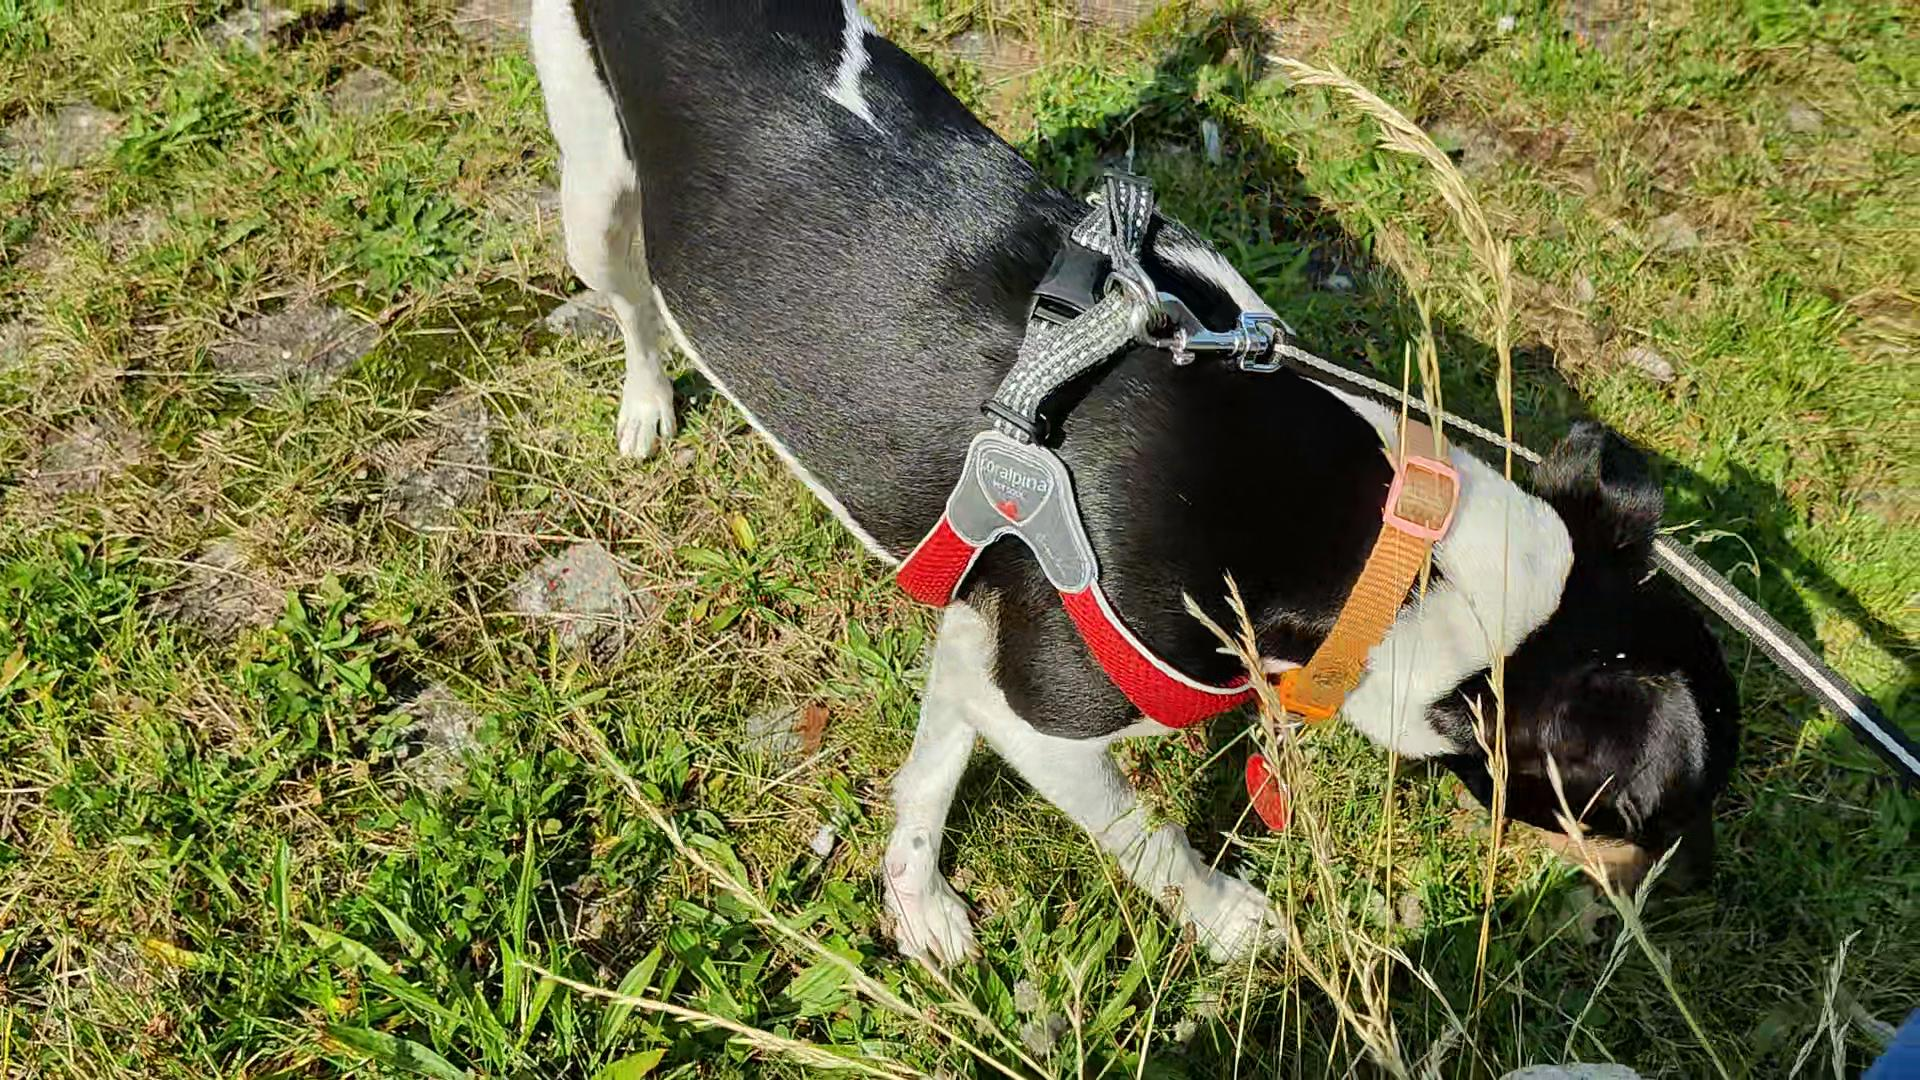Dog: (520, 0, 1754, 975)
